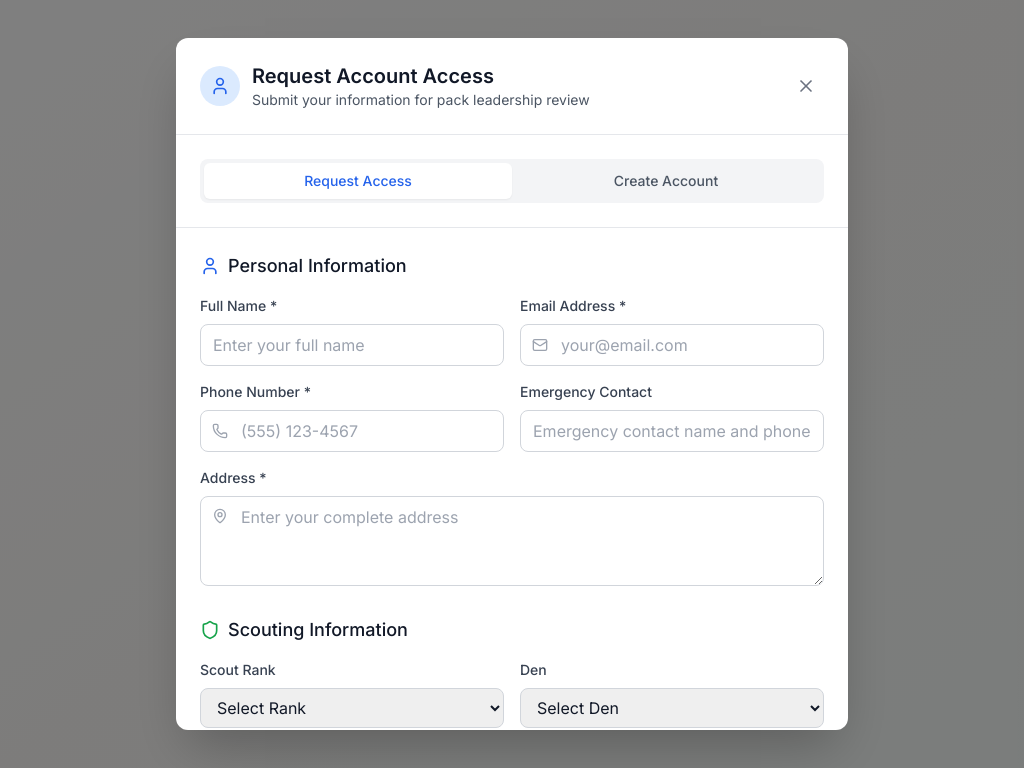
Test: AccountRequestModal › submits form with valid data
Type "John Doe" into the field with placeholder "Enter your full name" at {"x": 352, "y": 345}, box [200,324,504,366]
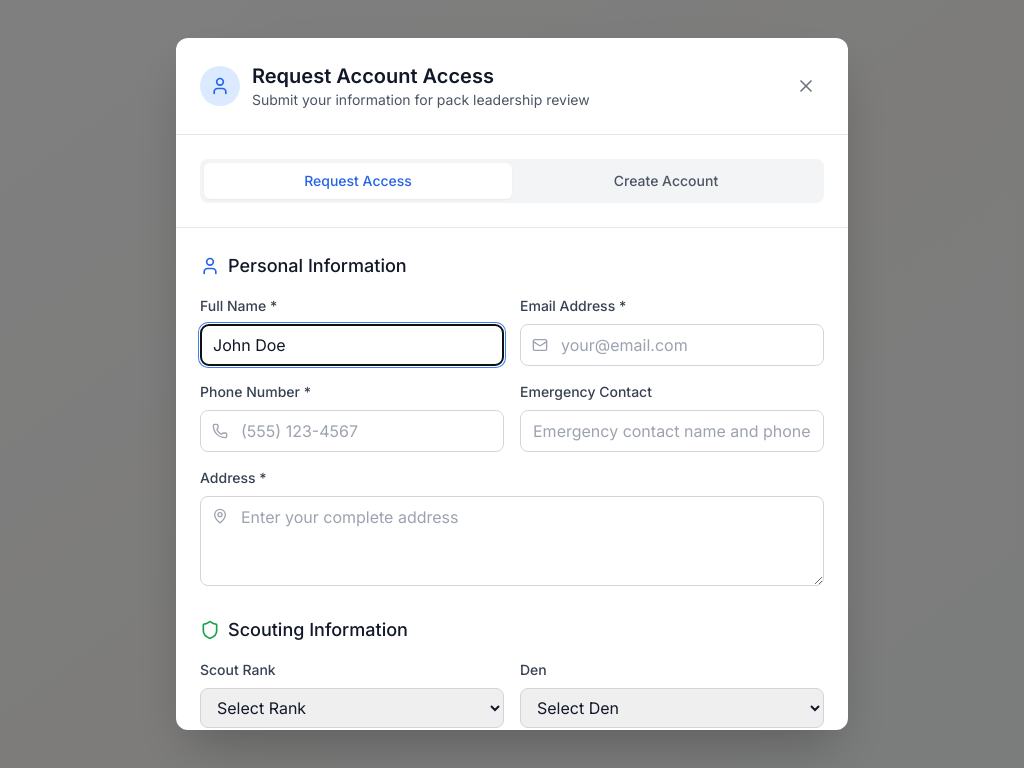
Type "john@example.com" into the field with placeholder "your@email.com" at {"x": 672, "y": 345}, box [520,324,824,366]
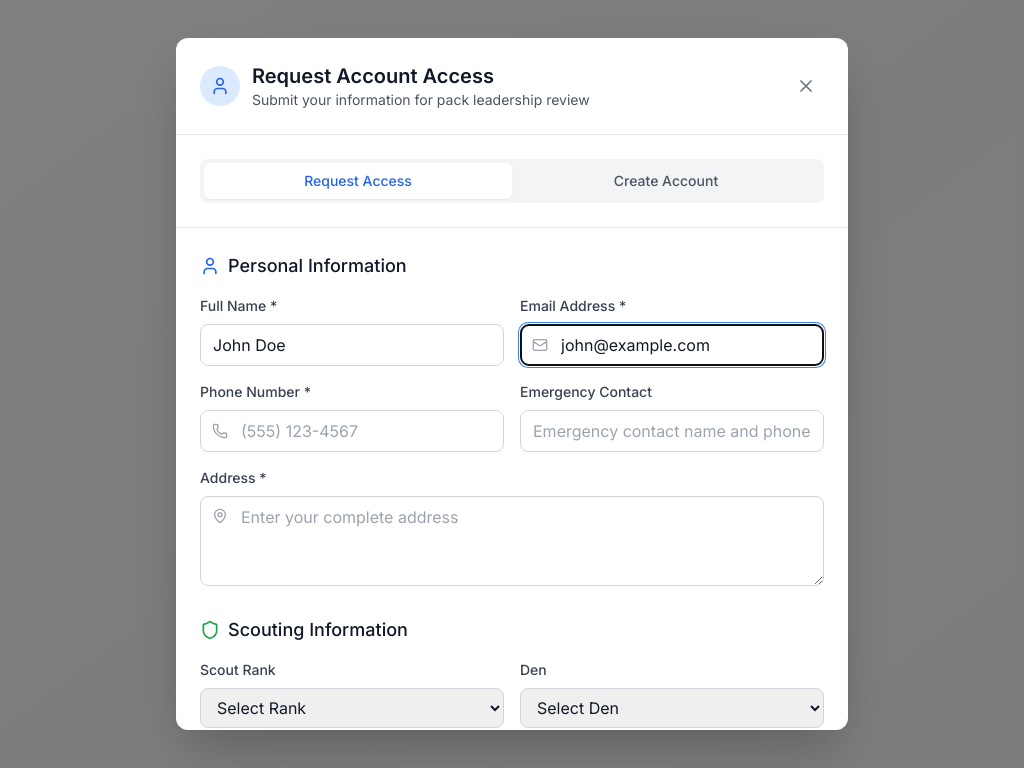
Type "555-1234" into the field with placeholder "(555) 123-4567" at {"x": 352, "y": 431}, box [200,410,504,452]
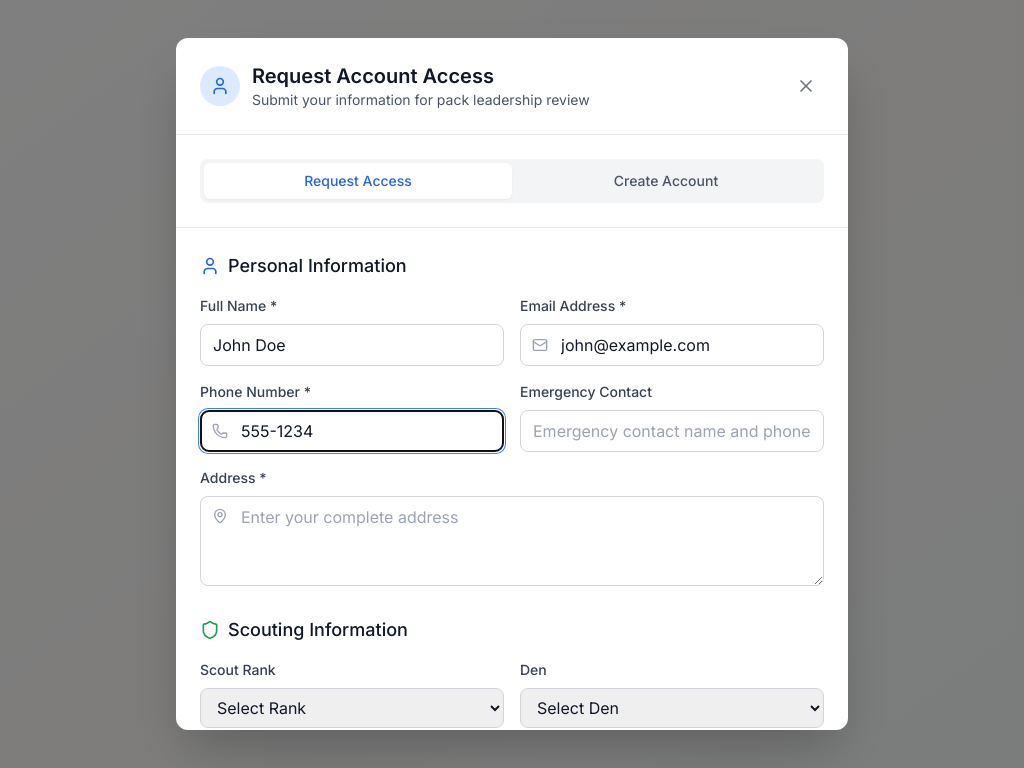
Type "123 Main St" into the text box with placeholder "Enter your complete address" at {"x": 512, "y": 541}, box [200,496,824,586]
(page scrolled)
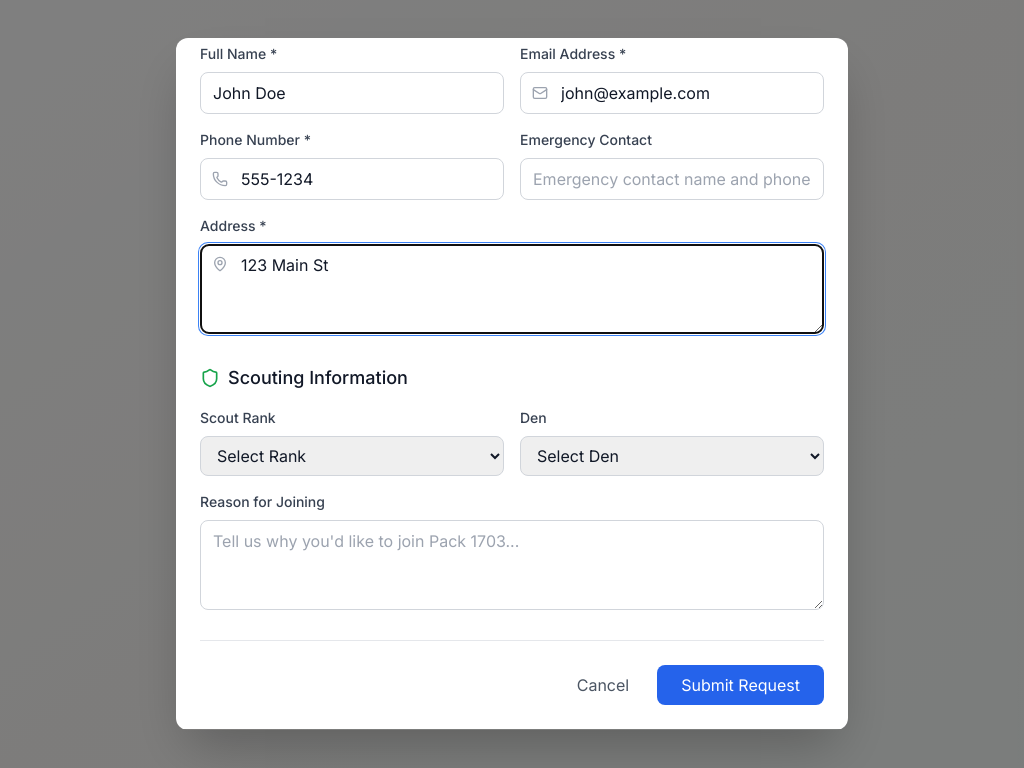
// Submit form
Click the button "Submit Request" at {"x": 741, "y": 685}, box [657,665,824,705]
(page scrolled)
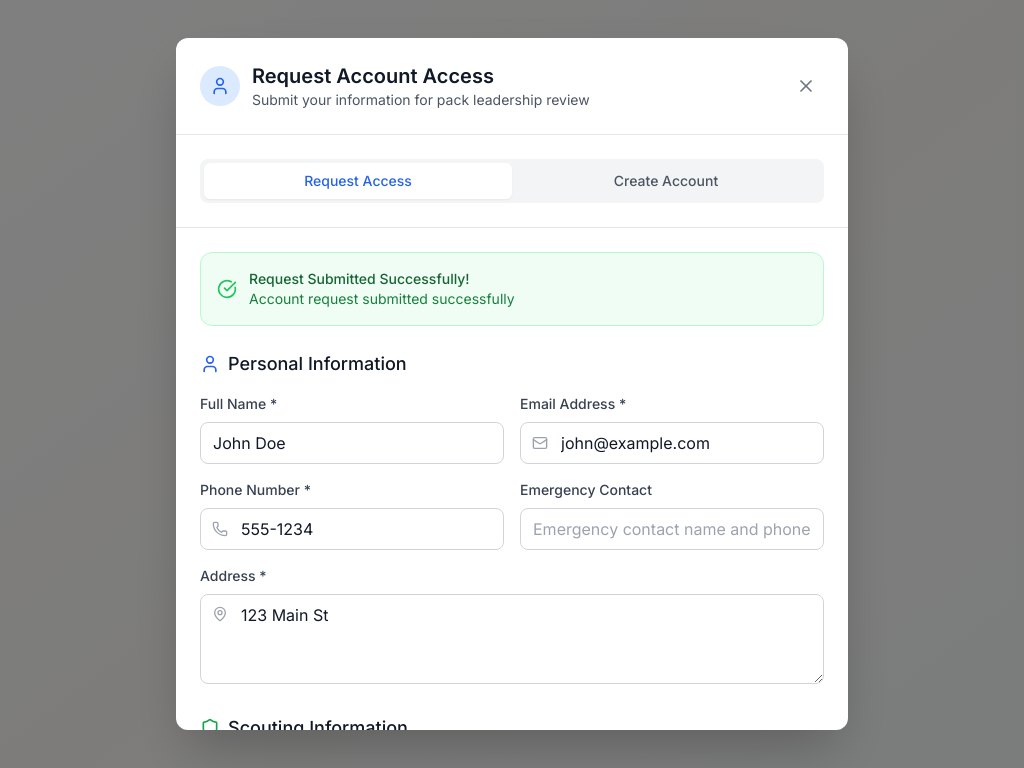
expect the text "Request Submitted Successfully!" is shown: met, box [249,270,470,287]
